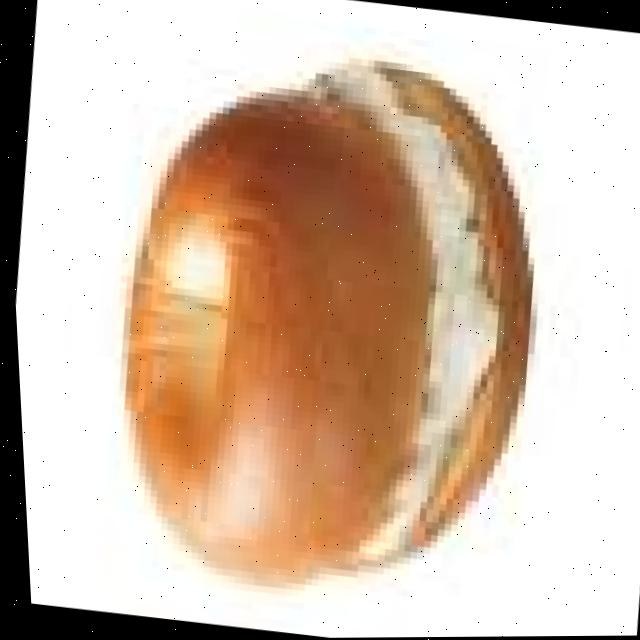Bagel: (121, 96, 427, 579)
